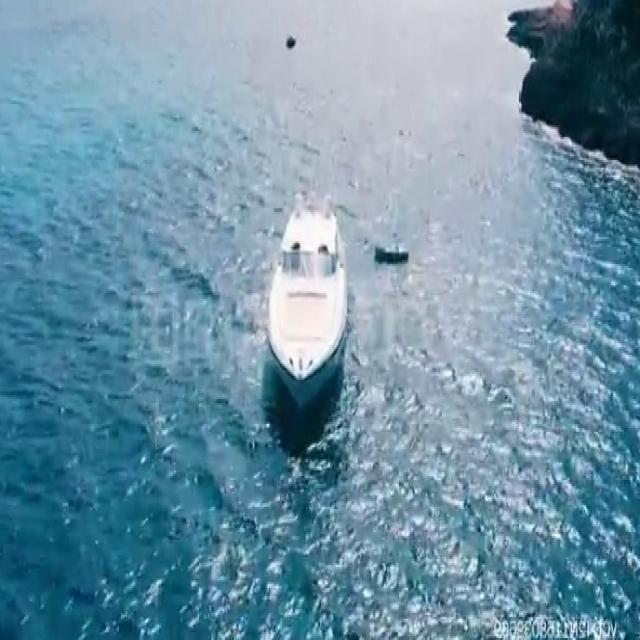houseboat: (267, 182, 351, 398)
